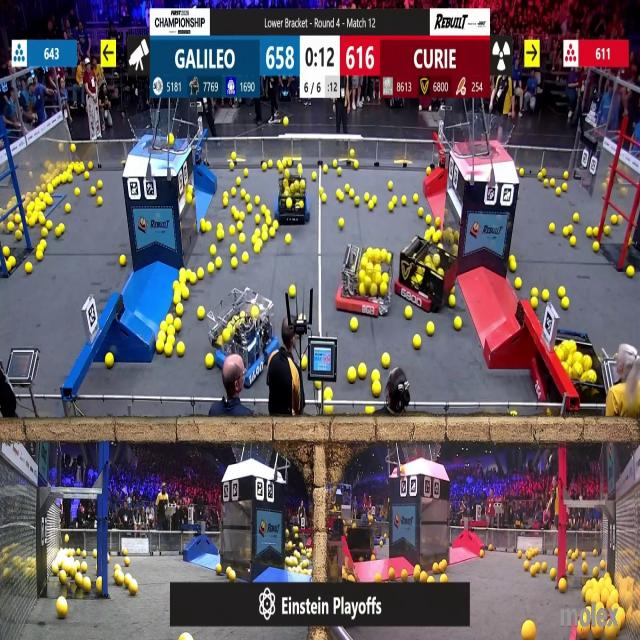ball_airborne: (503, 103, 508, 114), (283, 116, 289, 125), (169, 136, 174, 146)
ball_ground: (58, 598, 69, 618), (523, 622, 535, 640), (105, 352, 114, 368), (357, 363, 366, 378), (130, 582, 139, 596), (373, 383, 382, 397), (82, 580, 91, 594), (348, 367, 356, 382), (382, 353, 390, 367), (206, 354, 214, 368), (96, 580, 104, 594), (350, 318, 358, 331), (454, 317, 462, 330), (558, 580, 566, 593), (114, 571, 122, 584), (323, 388, 332, 399), (177, 344, 185, 356), (561, 296, 569, 308), (198, 308, 206, 320), (406, 308, 414, 320), (155, 342, 163, 354), (165, 346, 173, 358), (440, 560, 448, 572), (414, 337, 421, 350), (174, 318, 181, 331), (26, 264, 34, 275), (38, 214, 46, 225), (516, 278, 523, 290), (427, 322, 434, 334), (531, 296, 538, 308), (176, 305, 183, 317), (231, 244, 238, 256), (541, 289, 548, 301), (302, 357, 309, 369), (230, 569, 237, 581), (61, 570, 68, 582), (627, 268, 635, 278), (420, 570, 428, 580), (232, 257, 239, 268), (36, 250, 43, 261), (198, 269, 205, 280), (371, 369, 378, 380), (432, 233, 439, 244), (289, 285, 295, 297), (119, 254, 125, 266), (450, 294, 456, 306), (180, 270, 186, 282), (269, 230, 277, 239), (324, 407, 332, 416), (262, 224, 270, 233), (252, 307, 258, 319), (210, 245, 217, 255), (593, 242, 600, 252), (217, 231, 224, 241), (563, 226, 570, 236), (263, 232, 270, 242), (285, 236, 292, 246), (168, 314, 175, 324), (159, 333, 166, 343), (7, 256, 14, 266), (80, 563, 87, 573), (259, 205, 266, 215), (559, 286, 565, 297), (215, 257, 221, 268), (182, 288, 188, 299), (551, 568, 557, 579), (233, 207, 239, 218), (190, 274, 196, 285), (414, 565, 420, 576), (364, 408, 372, 416), (610, 215, 617, 224), (253, 244, 260, 253), (388, 568, 395, 577), (238, 222, 245, 231), (253, 230, 260, 239), (167, 336, 174, 345), (168, 325, 175, 334), (243, 252, 249, 262), (570, 237, 576, 247), (240, 234, 246, 244), (376, 571, 382, 581), (532, 287, 538, 297), (4, 247, 10, 257), (604, 225, 610, 235), (340, 190, 346, 200), (208, 264, 214, 274), (511, 263, 517, 273), (40, 240, 46, 250), (42, 229, 48, 239), (60, 224, 66, 234), (568, 564, 574, 574), (572, 213, 578, 223), (349, 188, 355, 198), (46, 220, 52, 230), (186, 192, 192, 202), (580, 563, 586, 573), (531, 566, 537, 576), (432, 562, 438, 572), (593, 567, 599, 577), (383, 274, 389, 284), (14, 232, 20, 241), (92, 186, 98, 195), (588, 226, 594, 235), (316, 381, 322, 390), (400, 197, 406, 206), (123, 558, 129, 567), (228, 225, 234, 234), (206, 222, 212, 231), (388, 203, 394, 212), (413, 193, 419, 202), (593, 229, 599, 238), (174, 294, 180, 303), (7, 222, 13, 231), (254, 197, 260, 206), (540, 562, 546, 571), (616, 215, 622, 224), (340, 218, 345, 228), (216, 564, 221, 574), (401, 568, 406, 578), (162, 321, 167, 331), (542, 178, 547, 188), (278, 160, 283, 170), (442, 574, 448, 582), (273, 220, 279, 228), (562, 182, 568, 190), (354, 198, 360, 206), (367, 202, 373, 210), (228, 161, 234, 169), (552, 181, 558, 189), (524, 562, 530, 570), (83, 172, 89, 180), (556, 187, 562, 195), (243, 195, 249, 203), (217, 222, 223, 230), (68, 174, 74, 182), (222, 190, 228, 198), (252, 237, 258, 245), (263, 162, 269, 170), (16, 222, 22, 230), (370, 194, 376, 202), (173, 281, 179, 289), (93, 551, 99, 559), (541, 170, 547, 178), (419, 208, 424, 217), (388, 181, 393, 190), (244, 169, 249, 178), (247, 204, 252, 213), (255, 215, 260, 224), (98, 198, 103, 207), (66, 204, 71, 213), (435, 217, 440, 226), (222, 199, 227, 208), (551, 223, 556, 232), (354, 162, 359, 171), (364, 192, 369, 201), (428, 573, 433, 582), (240, 212, 245, 221), (232, 151, 237, 160), (14, 215, 19, 224), (202, 220, 206, 231), (322, 167, 328, 174), (321, 193, 326, 201), (426, 216, 431, 224), (426, 168, 431, 176), (237, 177, 242, 185), (564, 172, 569, 180), (345, 184, 350, 192), (186, 271, 190, 281), (269, 162, 274, 170), (600, 561, 605, 569), (580, 553, 585, 561), (520, 169, 524, 178), (242, 188, 246, 197), (297, 166, 301, 175), (268, 216, 272, 225), (331, 162, 337, 168), (75, 188, 80, 195), (489, 543, 494, 550), (516, 553, 521, 560), (451, 287, 456, 294), (267, 209, 272, 216), (284, 169, 289, 176), (187, 185, 192, 192), (319, 186, 324, 193), (338, 168, 342, 176), (313, 173, 317, 181), (537, 173, 541, 181), (370, 555, 374, 562), (481, 551, 485, 558), (98, 181, 102, 188), (233, 188, 237, 195), (90, 163, 94, 170), (392, 198, 396, 205), (122, 547, 126, 554), (555, 550, 559, 557), (594, 551, 598, 557), (545, 411, 549, 417), (108, 556, 111, 564)
goal: (460, 118, 518, 158), (129, 115, 188, 152)
robot_blue: (205, 294, 276, 387), (274, 177, 310, 224)
robot_red: (532, 322, 604, 412), (337, 248, 391, 317), (396, 241, 447, 311), (345, 513, 380, 559)
